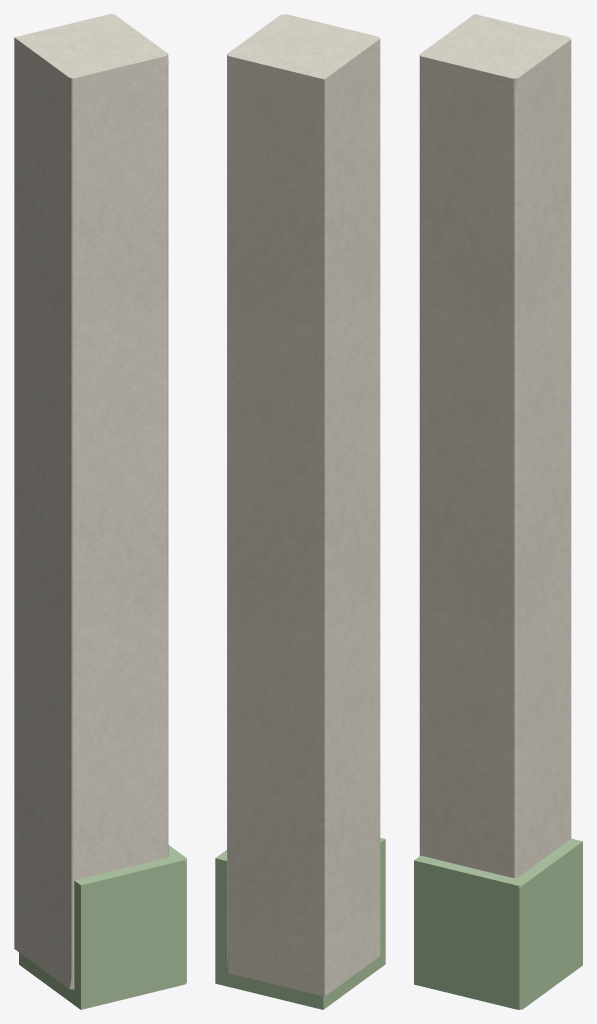
File: corner_tower.glb
The picture shows the model from 3 angles, left to right: view 1: azimuth 30°, elevation 25°; view 2: azimuth 150°, elevation 25°; view 3: azimuth 330°, elevation 25°; orthographic projection.
Visible parts, largest first — view 1: corner_tower_panel, corner_tower_band; view 2: corner_tower_panel, corner_tower_band; view 3: corner_tower_panel, corner_tower_band.
Part boxes in pixels (x1,y1,x2,y2): corner_tower_panel: (14, 14, 168, 989); corner_tower_band: (19, 845, 186, 1009); corner_tower_panel: (227, 14, 380, 996); corner_tower_band: (215, 837, 385, 1009); corner_tower_panel: (419, 14, 571, 877); corner_tower_band: (414, 838, 582, 1009).
Bounding box in the file's own units: 0.38 × 3.05 × 0.38.
Materials: 2 (1 with a texture image).
